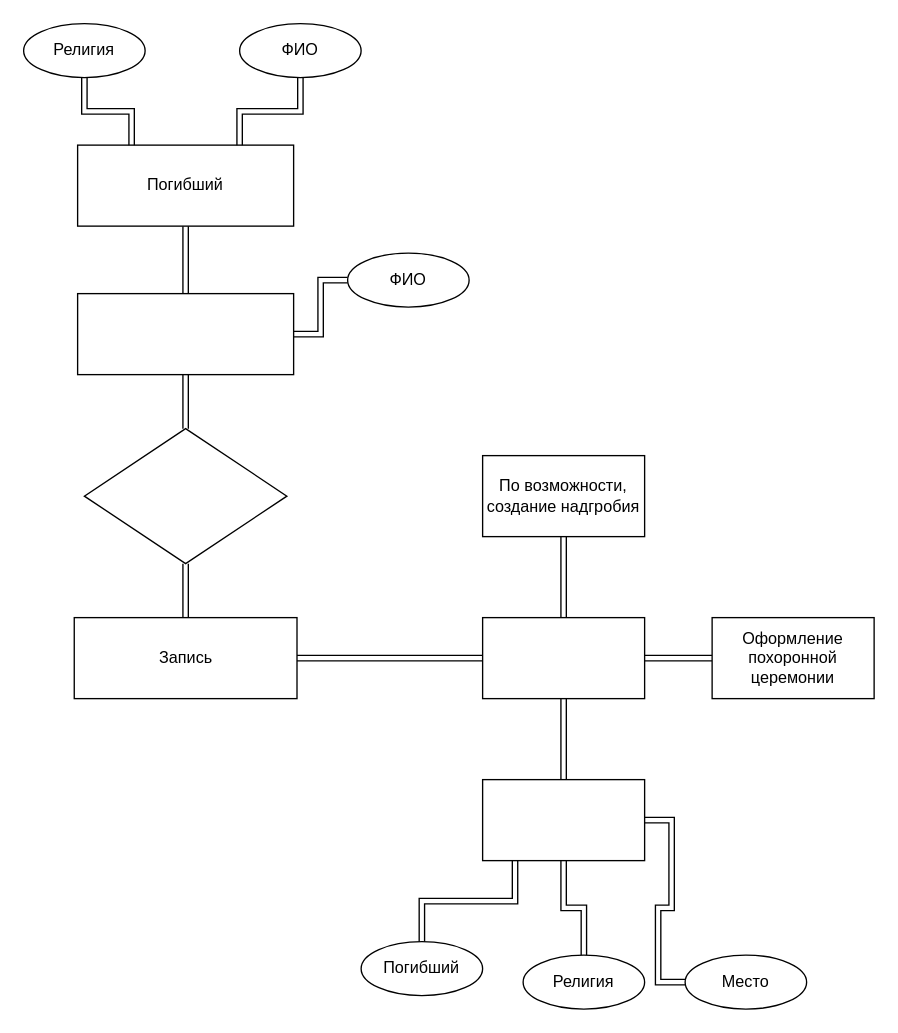
This 898x1033 diagram has some shape labels left out. The centre of each missing label's shape, as x and y in pixels:
"Обращение представителя в ритуальное агенство" belongs at point (185, 495).
"Оформления места на кладбище" belongs at point (563, 819).
"Представитель (родтственник, законный представитель)" belongs at point (185, 333).
"Специалист" belongs at point (563, 657).
